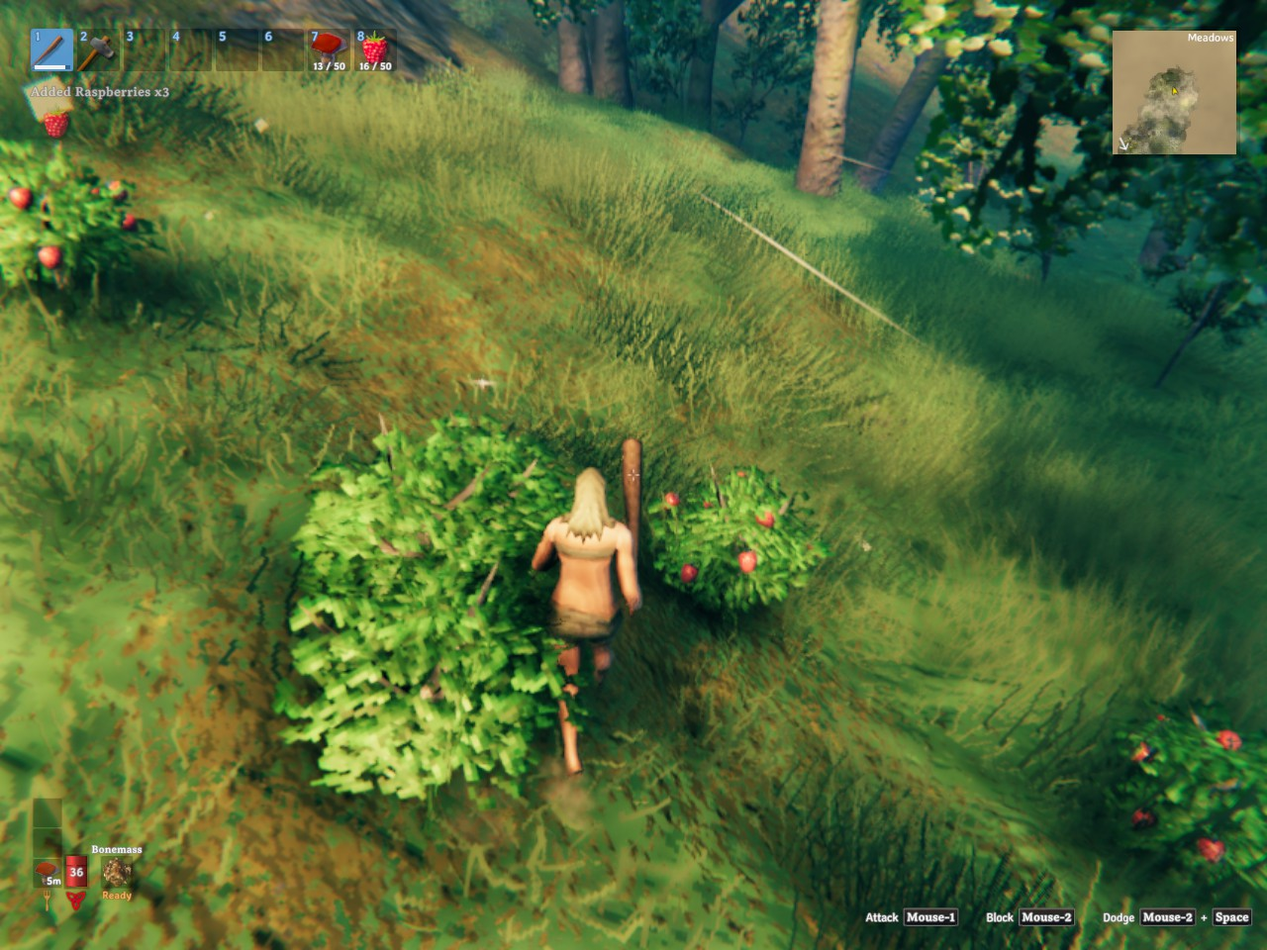Raspberries: (1111, 712, 1267, 876), (653, 476, 822, 604), (0, 168, 153, 283)
